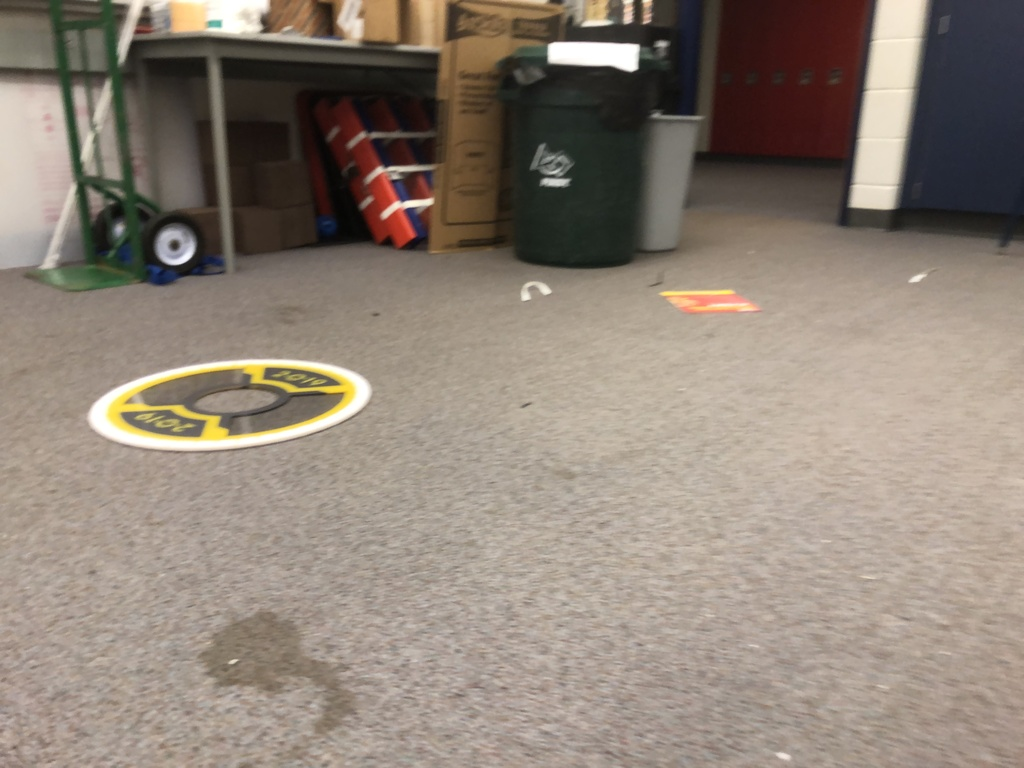hatch_panel: (79, 346, 397, 462)
